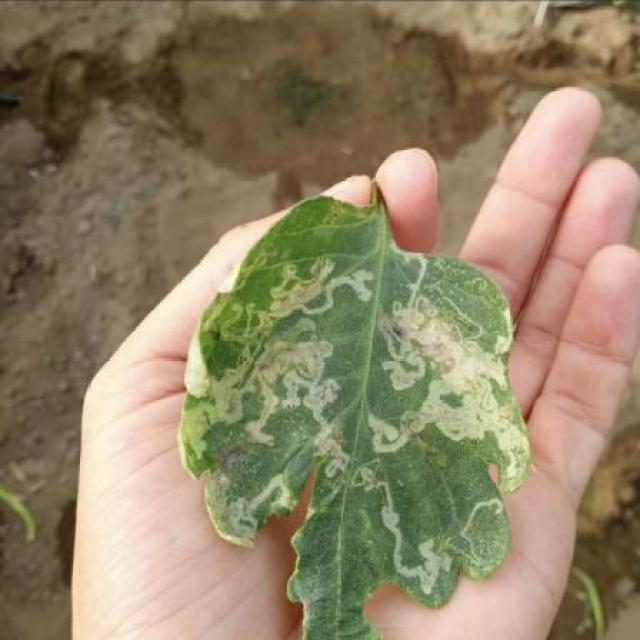Leaf Miner: (182, 187, 532, 640)
